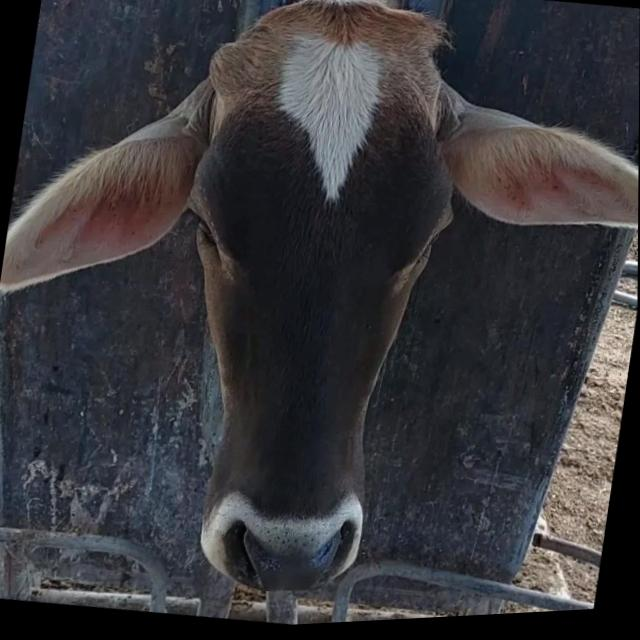cowFace: (132, 0, 485, 614)
